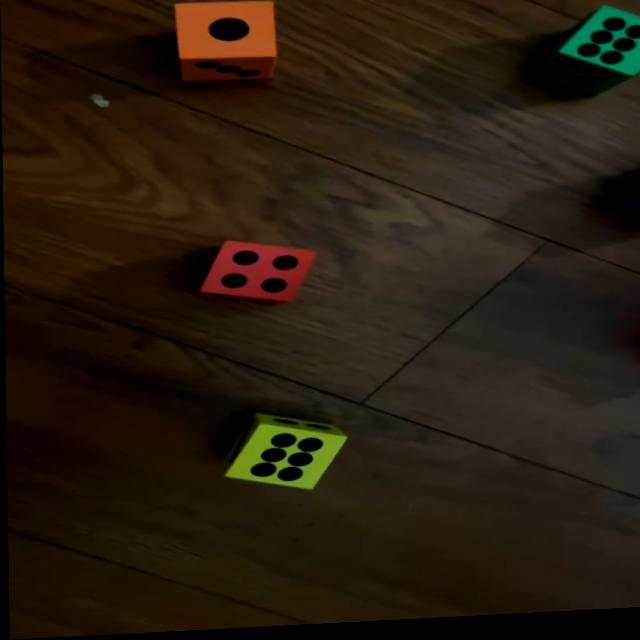blue_block: (608, 182, 640, 229)
red_block: (198, 239, 318, 311)
